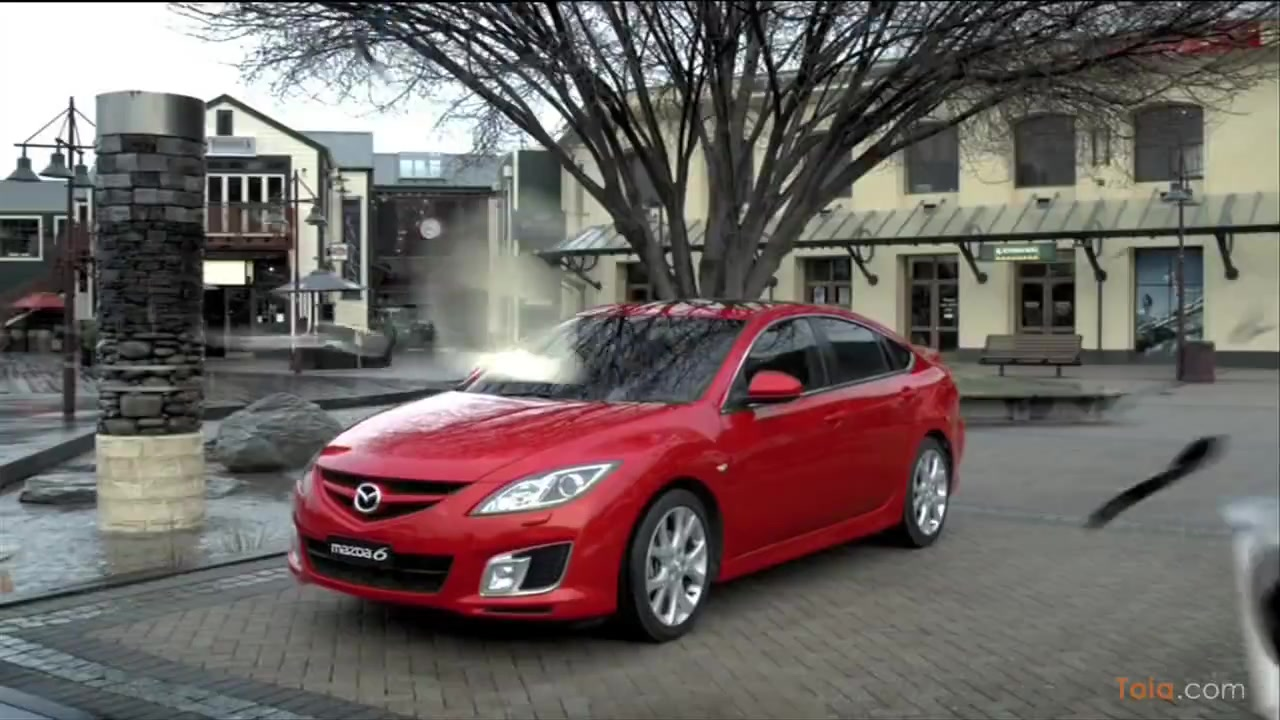car: (288, 297, 968, 647)
